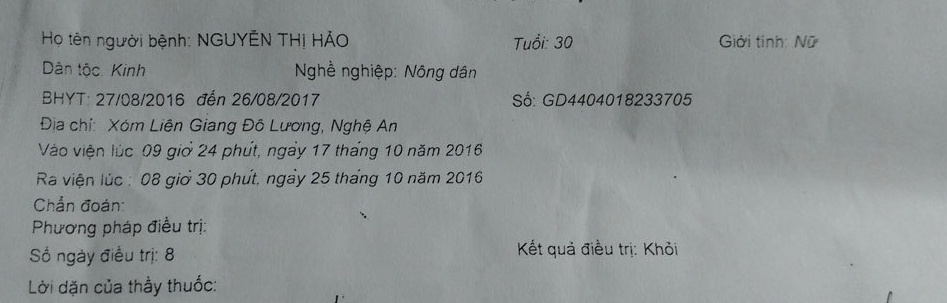add: (187, 113, 240, 136), (270, 114, 327, 135), (104, 110, 149, 135), (331, 113, 375, 135), (147, 112, 185, 136), (374, 112, 402, 136), (240, 115, 269, 136)
birth: (552, 31, 579, 53)
come_time: (337, 138, 383, 164), (269, 137, 310, 161), (221, 139, 261, 162), (444, 141, 485, 162), (410, 140, 443, 165), (168, 139, 196, 165), (138, 139, 167, 162), (383, 140, 408, 163), (310, 139, 333, 162), (197, 143, 220, 162)
id: (541, 87, 700, 112)
job: (401, 59, 446, 86), (446, 59, 479, 84)
name: (195, 25, 273, 55), (310, 28, 351, 53), (273, 26, 310, 52)
nation: (108, 55, 149, 81)
out_time: (219, 168, 263, 192), (266, 168, 310, 191), (446, 165, 488, 189), (335, 168, 382, 189), (407, 166, 445, 189), (164, 168, 195, 193), (195, 168, 219, 192), (137, 170, 163, 192), (310, 168, 335, 189), (384, 168, 406, 189)
sex: (790, 30, 825, 52)
